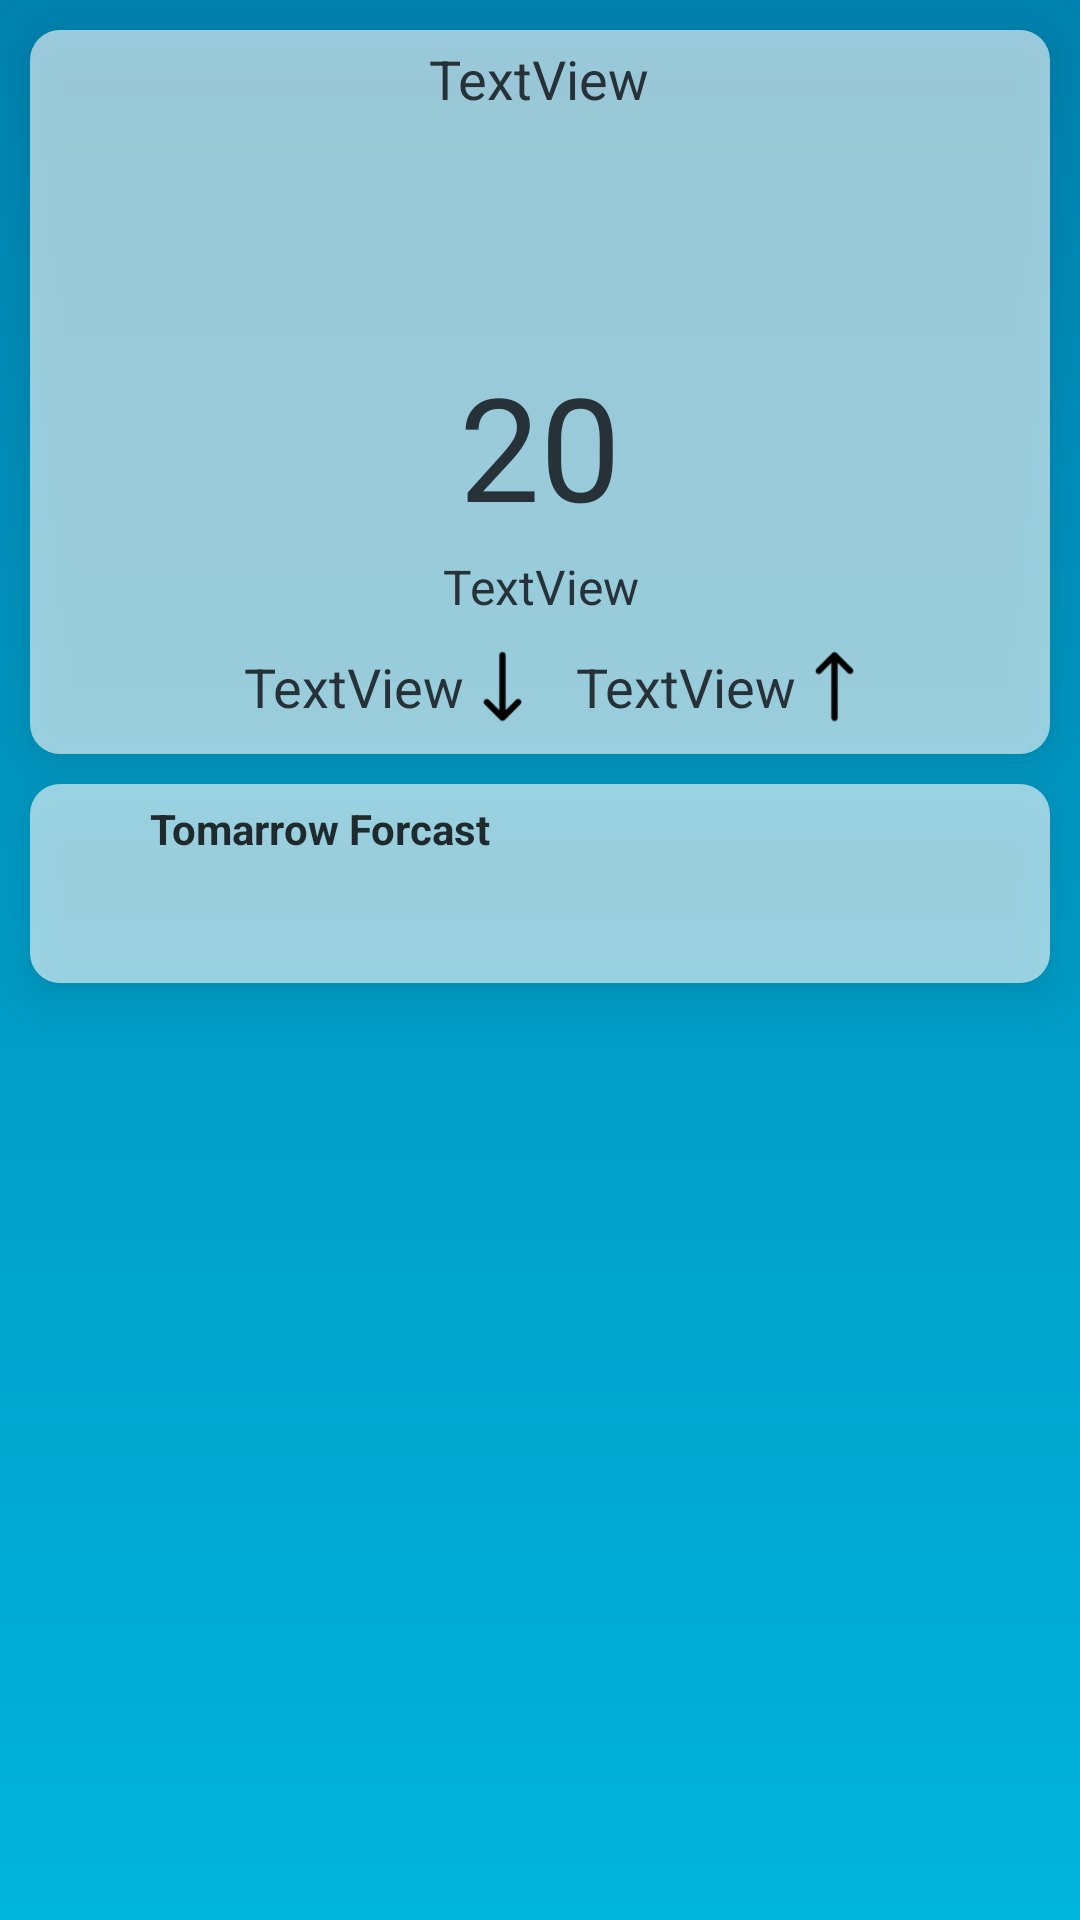

Named icons in this screenshot (1080px×1920px) and their bounding boxes, (x1, y1, x2, y2):
arrow down: (483, 651, 522, 722)
arrow up: (815, 651, 854, 722)
